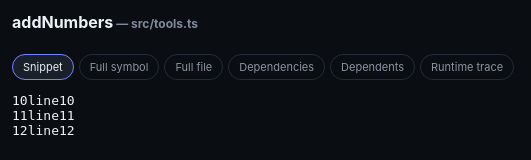
Scenario: CodeViewer — all six sub-views › Runtime trace lists observed executions
Step 1. Click the tab with test id "code-viewer-mode-trace" → point(467, 66), box [420,54,514,80]
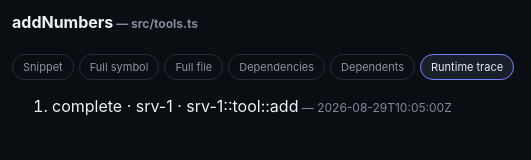
Check: the list item with test id "code-viewer-trace-e-42" is shown, box [52,96,452,116]
